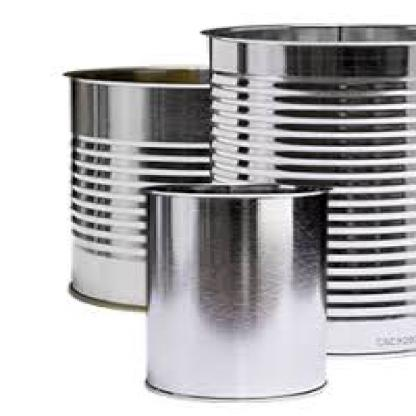METAL: (198, 21, 414, 355), (135, 182, 329, 396), (65, 64, 210, 306)
